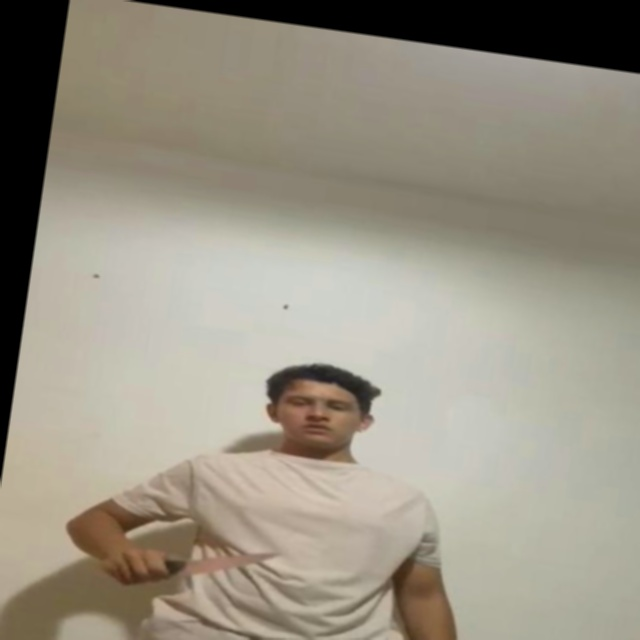Sharp-Object: (183, 543, 273, 582)
